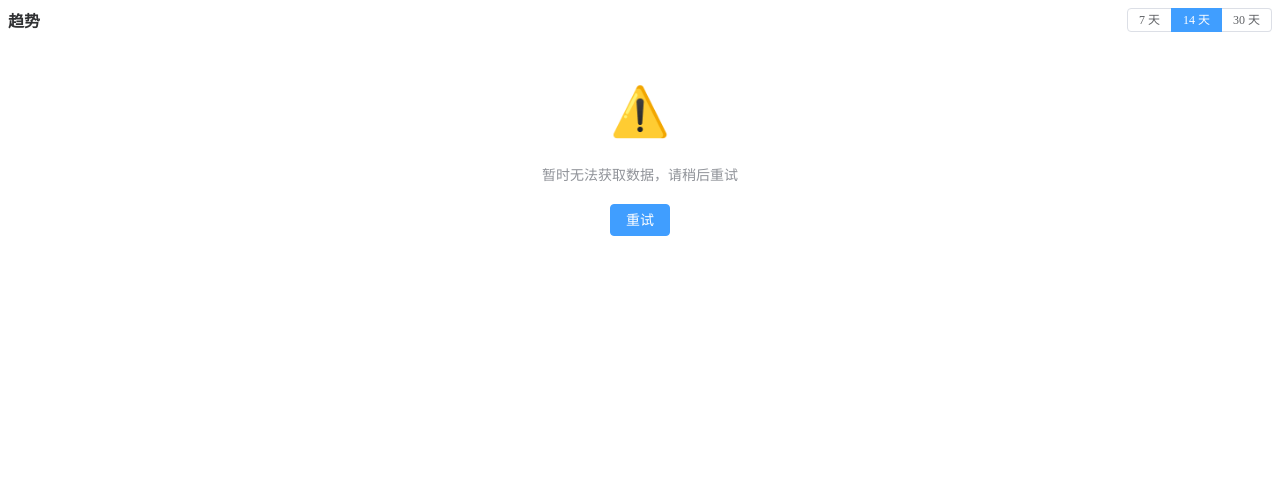
Test case: TrendPanel › clicking retry re-fetches the trend
The image size is (1280, 493).
Check: the element with test id "trend-panel-error" is shown, box x1=542 y1=85 x2=738 y2=236
Click the button with test id "trend-panel-error-retry" at (640, 220), box x1=610 y1=204 x2=670 y2=236
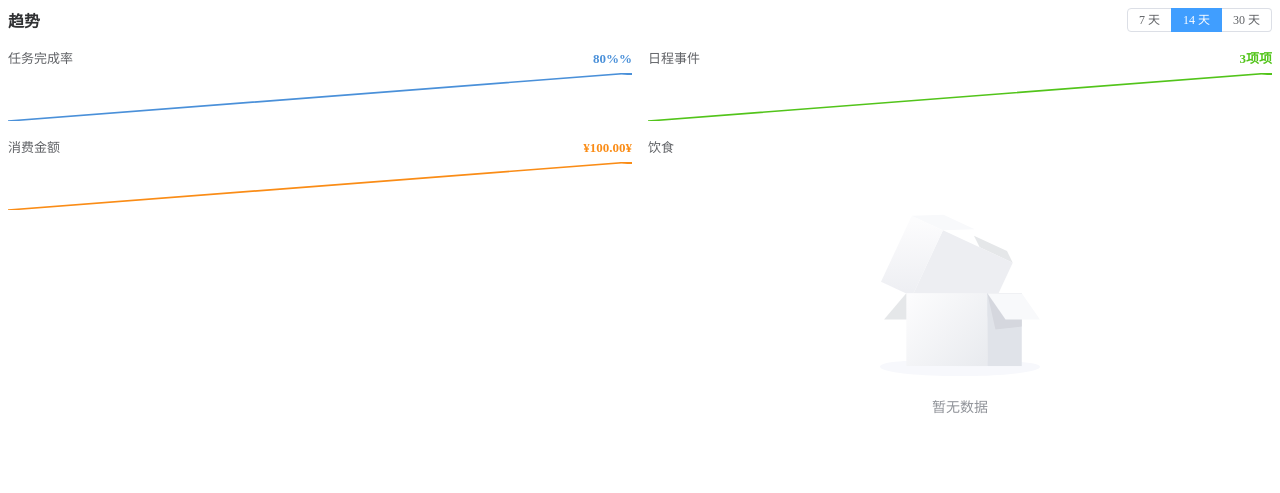
Check: the element with test id "trend-panel-grid" is shown
